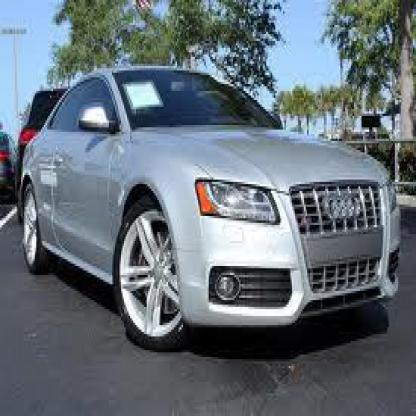Vehicle: (1, 32, 414, 391)
